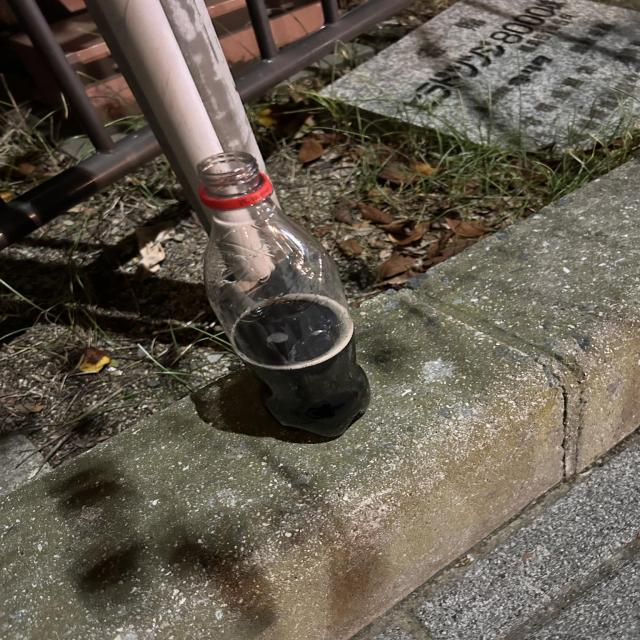medium: (198, 152, 369, 437)
